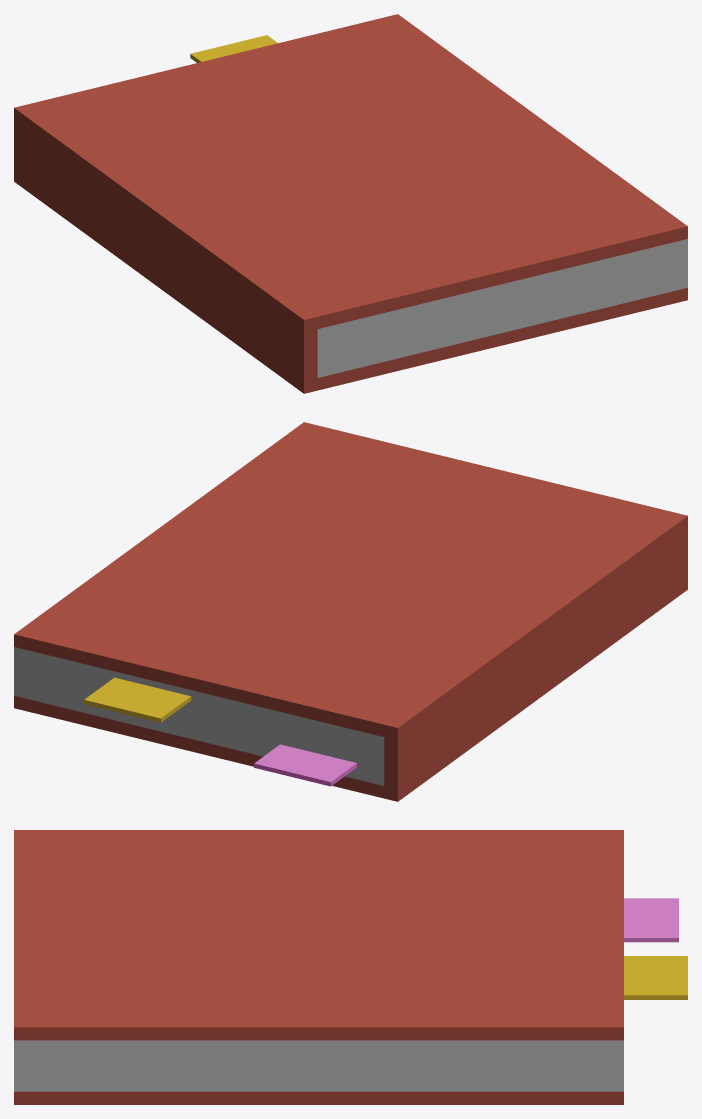
The model's file is SO_Book_02.fbx.
The picture shows the model from 3 angles, top to bottom: view 1: azimuth 30°, elevation 25°; view 2: azimuth 150°, elevation 25°; view 3: azimuth 270°, elevation 25°; orthographic projection. The views are drawn at different scales.
Parts seen in each view (by area): view 1: SO_Book_02; view 2: SO_Book_02; view 3: SO_Book_02.
Part boxes in pixels (bbox=[...]): SO_Book_02: bbox=[14, 14, 687, 393]; SO_Book_02: bbox=[14, 422, 687, 801]; SO_Book_02: bbox=[14, 830, 687, 1104].
Size of the model in its own units: 0.5169 by 0.095 by 0.7472.
